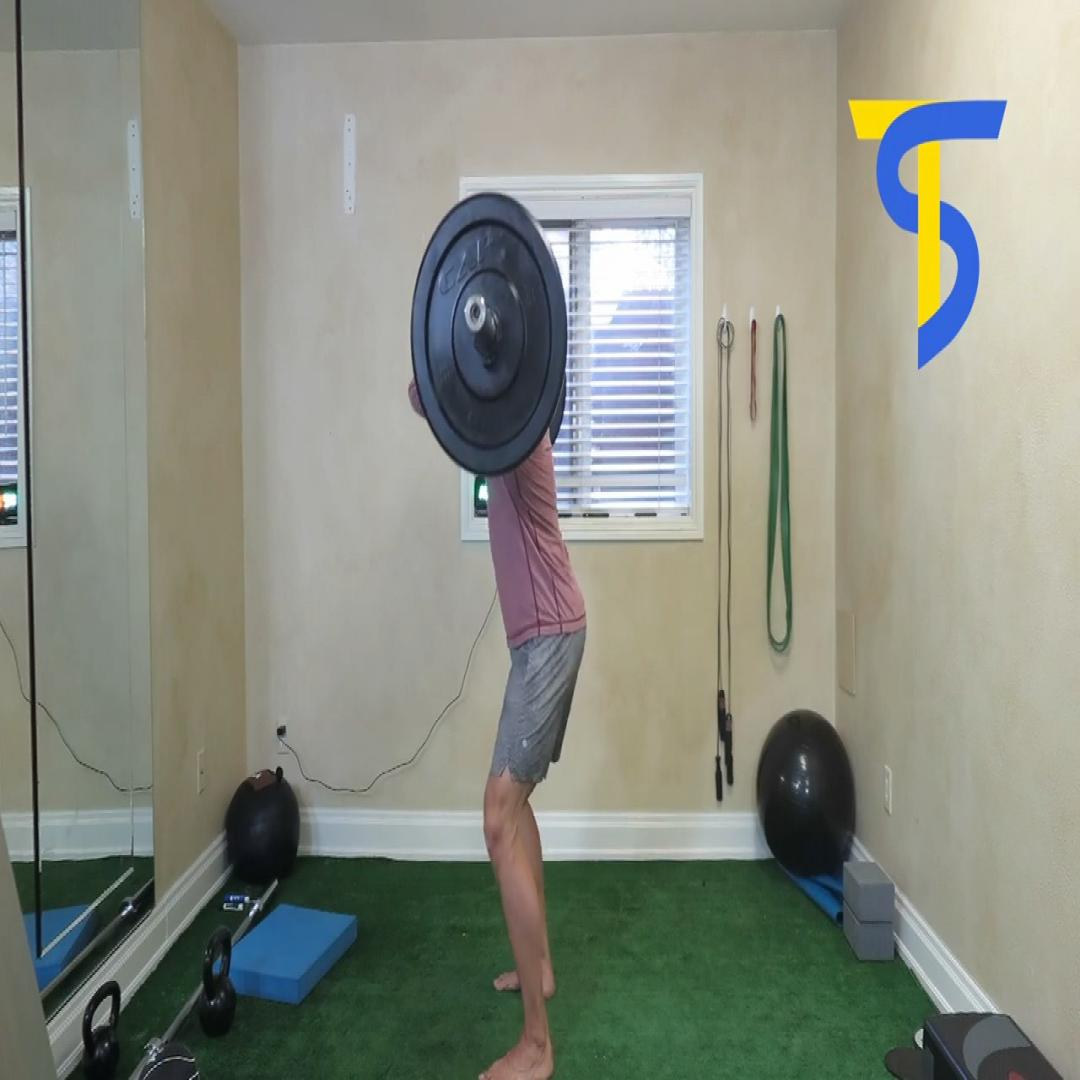Bar: (464, 293, 487, 333)
Barbell: (410, 192, 567, 477)
